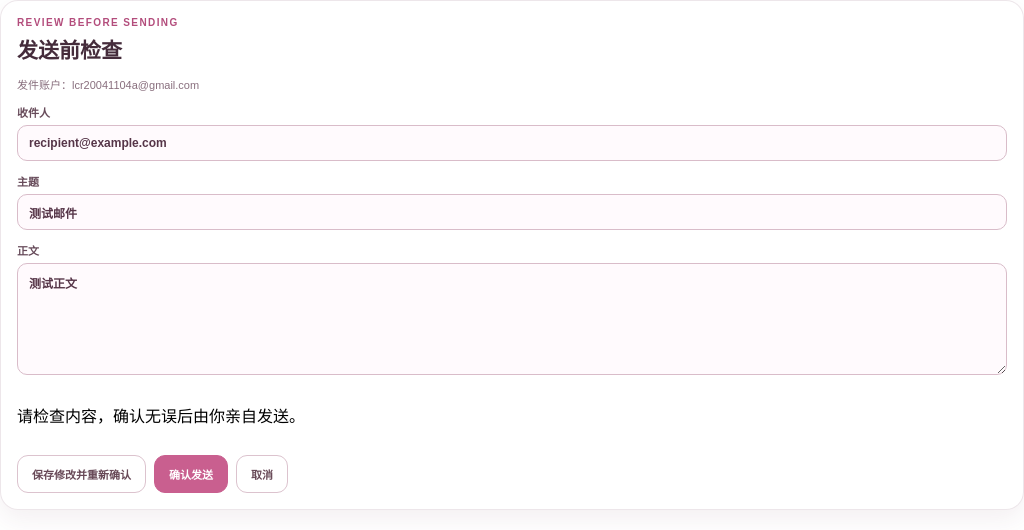
Test: EmailReviewCard › shows the provider-confirmed sent result after the user clicks send
Click the button "确认发送" at (191, 474), box [154,455,228,493]
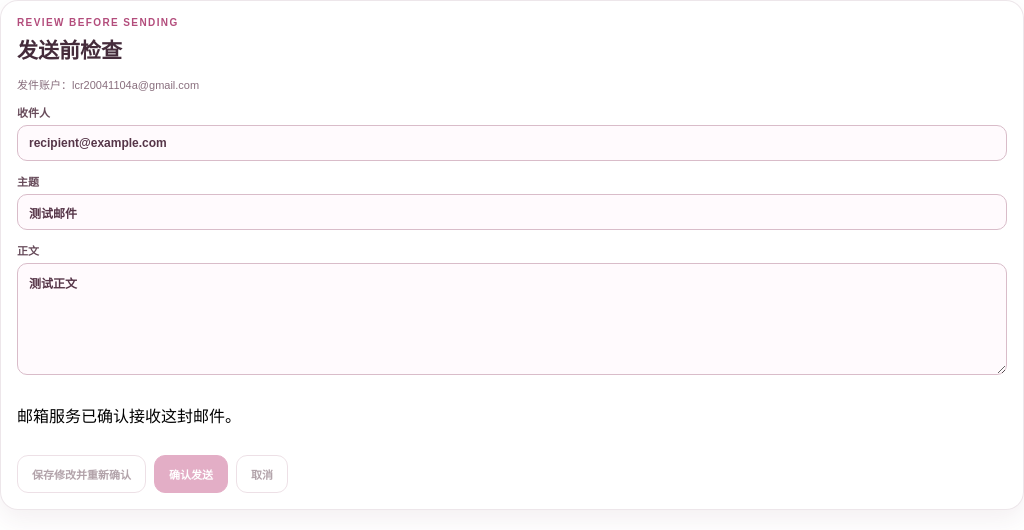
Expected: the field labelled "主题" is disabled, [17,194,1007,230]
Now the text "邮箱服务已确认接收这封邮件。" is shown, box [17,408,241,425]
Now the button "确认发送" is disabled, box [154,455,228,493]
